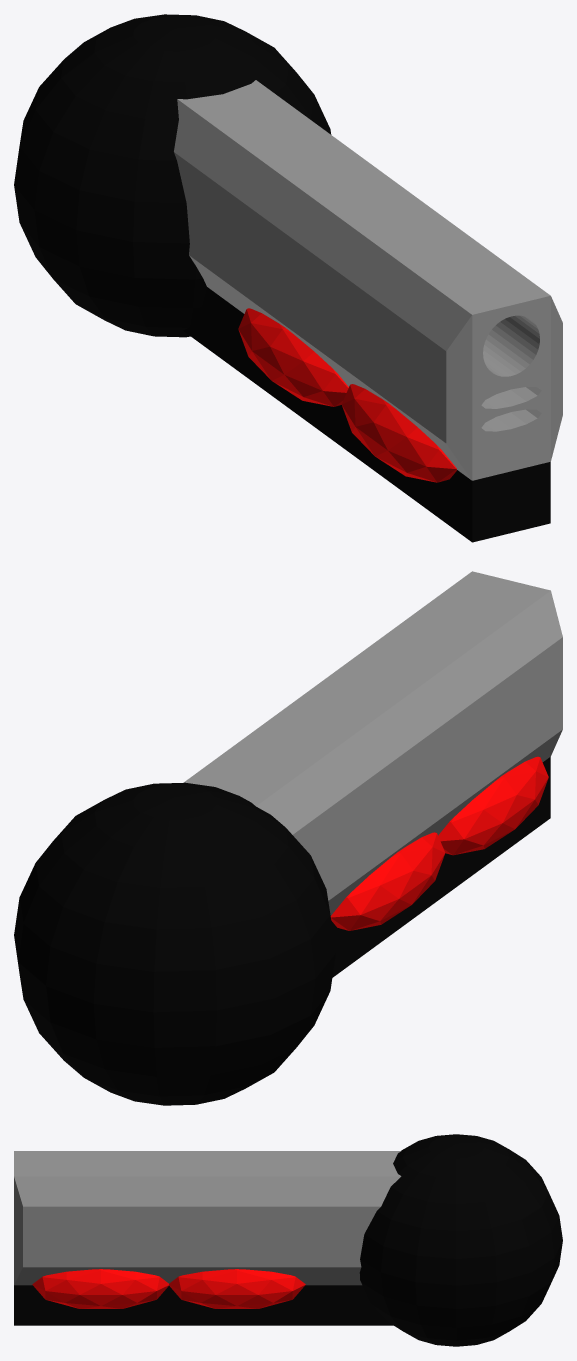
File: shotgun.glb
The picture shows the model from 3 angles, top to bottom: view 1: azimuth 30°, elevation 25°; view 2: azimuth 150°, elevation 25°; view 3: azimuth 270°, elevation 25°; orthographic projection. The views are drawn at different scales.
Parts seen in each view (by area): view 1: HiddenRifle, Sphere, Cube, Icosphere; view 2: Sphere, HiddenRifle, Icosphere, Cube; view 3: HiddenRifle, Sphere, Cube, Icosphere.
Boxes of the visible parts, x1,y1,x2,y2 form: HiddenRifle: (174, 80, 562, 480); Sphere: (14, 14, 331, 337); Cube: (183, 287, 550, 542); Icosphere: (238, 308, 456, 482); Sphere: (14, 782, 335, 1105); HiddenRifle: (183, 571, 562, 915); Icosphere: (330, 756, 548, 930); Cube: (331, 757, 550, 977); HiddenRifle: (14, 1151, 401, 1285); Sphere: (359, 1134, 562, 1346); Cube: (14, 1285, 393, 1325); Icosphere: (32, 1269, 305, 1308).
Bounding box in the file's own units: 0.6874 × 0.6874 × 1.77.
